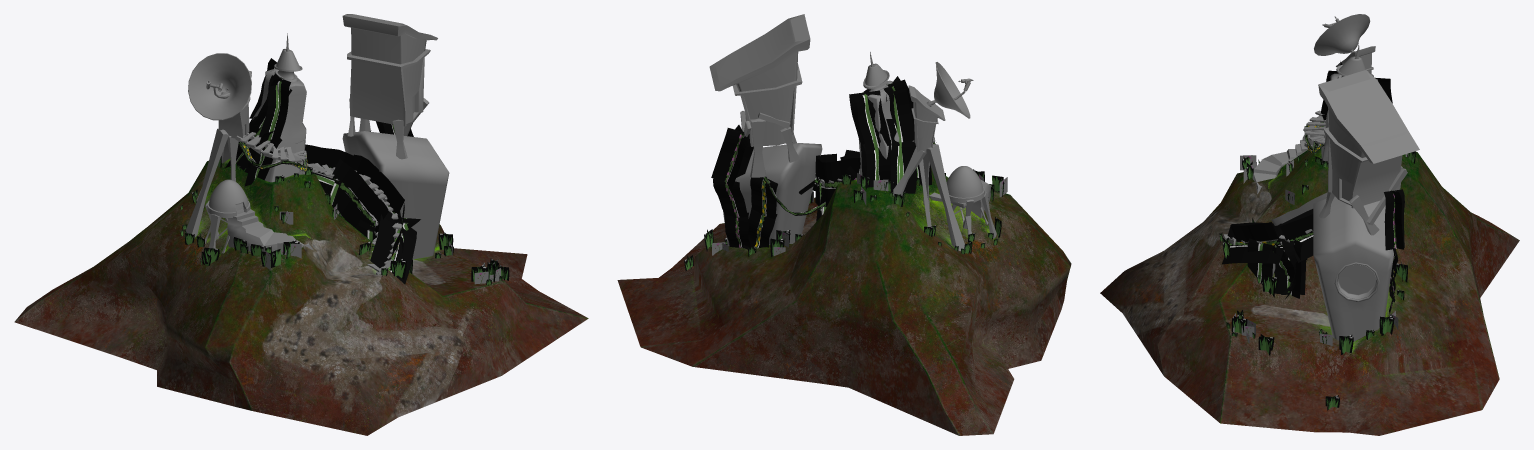
File: Precarious Buildings Plants.obj
3 views of the same model, side by side, from view 1: azimuth 30°, elevation 25°; view 2: azimuth 150°, elevation 25°; view 3: azimuth 270°, elevation 25° (orthographic). The views are drawn at different scales.
Parts seen in each view (by area): view 1: Land House, House Houses House_4, House Houses House2, House Satelite_Part_1_Geo Satelite, House Ferns Fern_V7, House Main_House_main Main_House Houses, House Ferns Fern_V3, House Houses EEGoo_House_1 EEGoo_House_3, House Houses EEGoo_House_2 EEGoo_House_1, House Planks Plank_Number_20, House Ferns Fern15, House Ferns Fern_V4 (+4 smaller); view 2: Land House, House Houses House_4, House Houses House2, House Ferns Fern16, House Ferns Fern13, House Ferns Fern17, House Ferns Fern11, House Houses House_3 House_3, House Planks Plank_Number_20, House Ferns Fern19, House Houses EEGoo_House_2 EEGoo_House_1, House Ferns Fern_V6 (+8 smaller); view 3: Land House, House Houses House_4, House Houses House2, House Satelite_Part_1_Geo Satelite, House Ferns Fern_V3, House Houses EEGoo_House_1 EEGoo_House_3, House Ferns Fern_V2, House Ferns Fern18, House Ferns Fern_V4, House Ferns Fern5, House Fern Ferns, House Ferns Fern_V5 (+4 smaller).
Boxes of the visible parts, x1,y1,x2,y2 form: Land House: (14,158,588,435); House Houses House_4: (342,14,437,126); House Houses House2: (342,131,449,259); House Satelite_Part_1_Geo Satelite: (188,53,251,120); House Ferns Fern_V7: (324,158,388,228); House Main_House_main Main_House Houses: (245,69,306,182); House Ferns Fern_V3: (370,211,416,284); House Houses EEGoo_House_1 EEGoo_House_3: (227,209,313,251); House Houses EEGoo_House_2 EEGoo_House_1: (207,179,250,217); House Planks Plank_Number_20: (185,128,228,237); House Ferns Fern15: (244,75,290,180); House Ferns Fern_V4: (353,154,404,214); Land House: (617,167,1071,435); House Houses House_4: (709,14,810,146); House Houses House2: (723,143,822,246); House Ferns Fern16: (742,177,777,249); House Ferns Fern13: (849,90,891,181); House Ferns Fern17: (713,177,750,248); House Ferns Fern11: (886,82,916,193); House Houses House_3 House_3: (908,85,945,152); House Planks Plank_Number_20: (926,144,964,250); House Ferns Fern19: (711,128,753,181); House Houses EEGoo_House_2 EEGoo_House_1: (946,166,984,202); House Ferns Fern_V6: (816,158,860,206); Land House: (1100,145,1519,435); House Houses House_4: (1318,70,1419,208); House Houses House2: (1313,196,1393,341); House Satelite_Part_1_Geo Satelite: (1314,14,1370,55); House Ferns Fern_V3: (1222,222,1283,264); House Houses EEGoo_House_1 EEGoo_House_3: (1252,139,1307,193); House Ferns Fern_V2: (1230,222,1286,258); House Ferns Fern18: (1384,189,1404,250); House Ferns Fern_V4: (1280,214,1313,240); House Ferns Fern5: (1247,238,1273,294); House Fern Ferns: (1274,238,1306,294); House Ferns Fern_V5: (1281,209,1313,262).
Bounding box in the file's own units: 139 × 89.07 × 118.
Materials: 10 (7 with a texture image).
